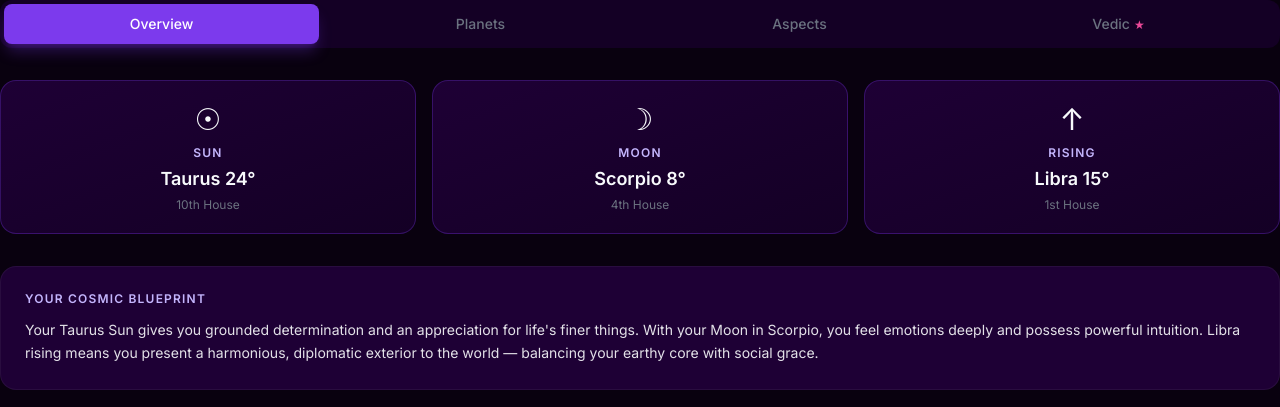
Test: ChartTabs › switches to Planets tab and shows all 10 planets
The image size is (1280, 407).
Click the tab "Planets" at [480, 24], box 323,4 -> 638,44
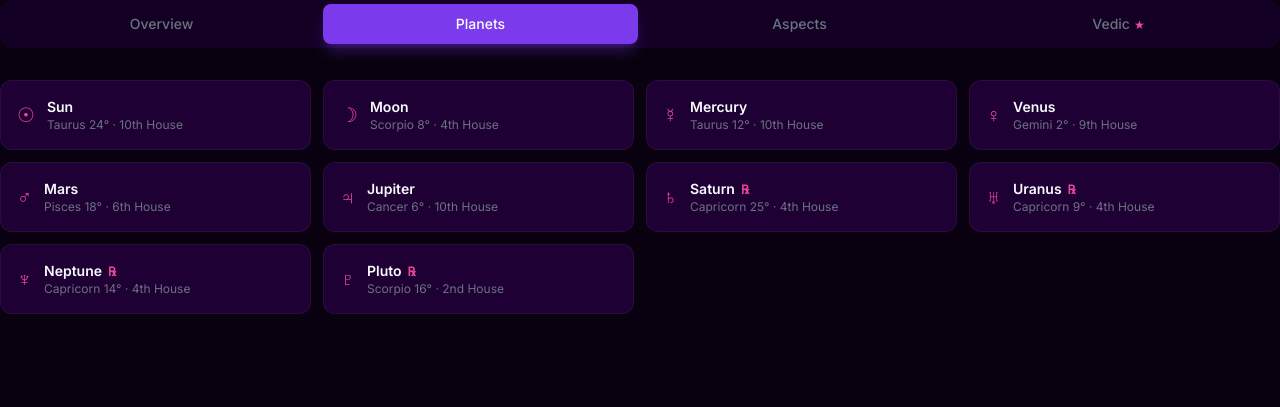
expect the text "Mercury" is shown: met, box 690,98 -> 747,115
expect the text "Pluto" is shown: met, box 367,262 -> 402,279
